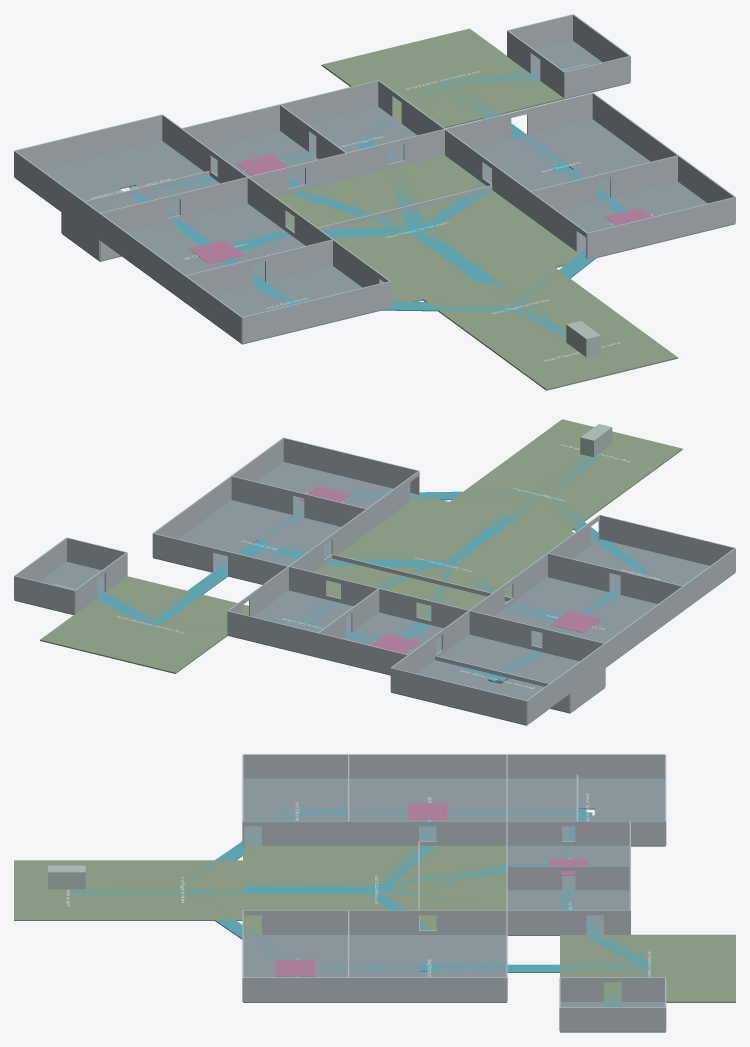
The model's file is rough-shell.glb.
3 views of the same model, one above another, from view 1: azimuth 30°, elevation 25°; view 2: azimuth 150°, elevation 25°; view 3: azimuth 270°, elevation 25° (orthographic). The views are drawn at different scales.
Parts seen in each view (by area): view 1: Floor court, Floor array, Floor entry, Floor stage, Wall mess S, Wall store S, Floor store, Wall generator N, Floor mess, Floor records, Floor radio, Floor generator.005 (+59 smaller); view 2: Floor court, Floor array, Floor entry, Floor stage, Wall generator N, Wall mess S, Wall store S, Floor store, Floor mess, Floor records, Wall records N, Floor dorm.007 (+59 smaller); view 3: Floor court, Floor array, Floor entry, Floor stage, Floor store, Floor mess, Wall dorm E, Wall lab W, Wall generator W, Floor records, Wall mess E, Wall shelter E (+45 smaller).
Boxes of the visible parts, x1,y1,x2,y2 form: Floor court: (276, 155, 581, 305); Floor array: (321, 28, 564, 128); Floor entry: (423, 267, 620, 348); Floor stage: (489, 315, 677, 390); Wall mess S: (587, 197, 735, 259); Wall store S: (242, 281, 390, 343); Floor store: (185, 266, 380, 344); Wall generator N: (14, 114, 162, 169); Floor mess: (558, 182, 735, 257); Floor records: (308, 106, 417, 163); Floor radio: (209, 131, 318, 185); Floor generator.005: (97, 141, 199, 184); Floor court: (314, 495, 596, 620); Floor array: (40, 576, 248, 673); Floor entry: (449, 457, 630, 531); Floor stage: (510, 419, 682, 487); Wall generator N: (390, 667, 526, 724); Wall mess S: (283, 437, 418, 494); Wall store S: (600, 515, 735, 565); Floor store: (573, 541, 734, 610); Floor mess: (257, 462, 417, 517); Floor records: (227, 590, 353, 657); Wall records N: (227, 611, 317, 656); Floor dorm.007: (197, 500, 291, 539); Floor court: (243, 845, 506, 934); Floor array: (560, 934, 735, 1002); Floor entry: (119, 860, 242, 920); Floor stage: (14, 860, 119, 920); Floor store: (243, 778, 347, 845); Floor mess: (243, 934, 348, 1002); Wall dorm E: (348, 977, 506, 1001); Wall lab W: (349, 754, 506, 778); Wall generator W: (507, 754, 665, 778); Floor records: (507, 890, 629, 935); Wall mess E: (243, 977, 348, 1001); Wall shelter E: (560, 1007, 665, 1031).
Size of the model in its own units: 68.16 by 5.66 by 82.
